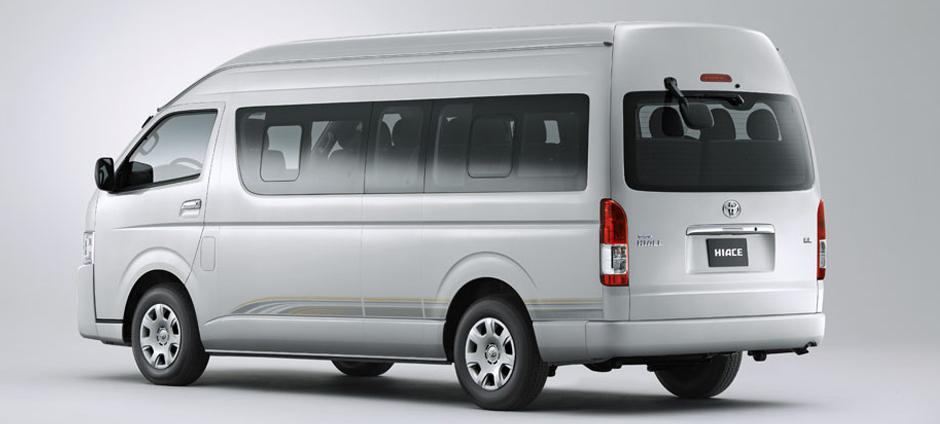van: (76, 19, 827, 412)
